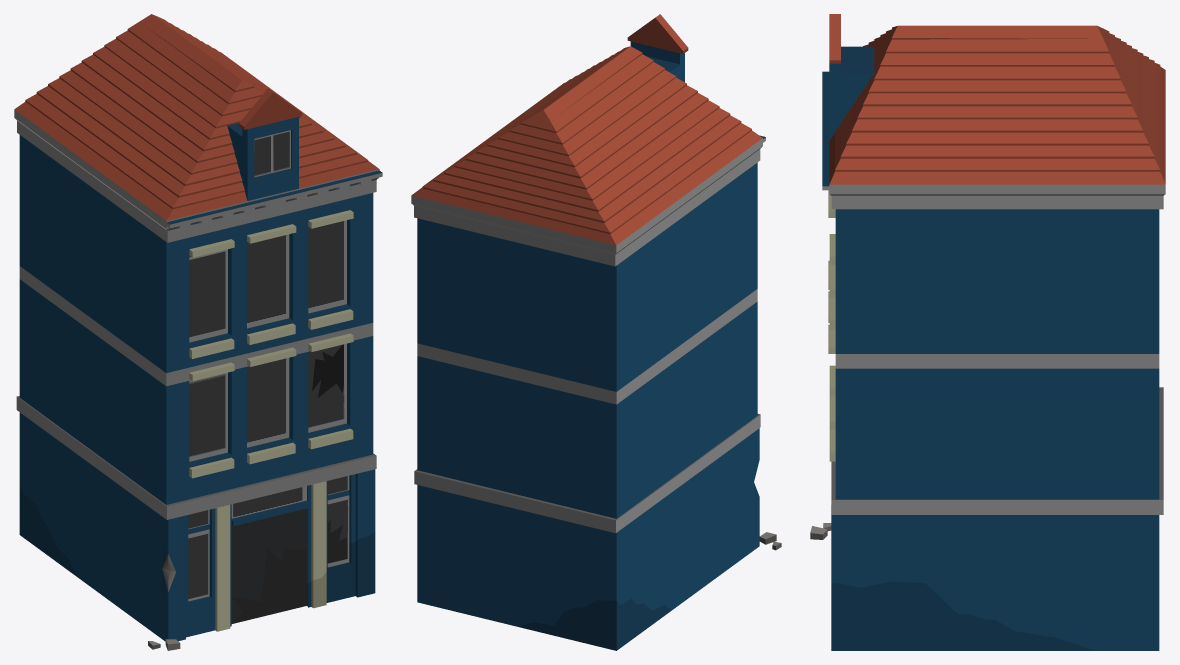
File: SA_Bld_OfficeOld_01.gltf
The picture shows the model from 3 angles, left to right: view 1: azimuth 30°, elevation 25°; view 2: azimuth 150°, elevation 25°; view 3: azimuth 270°, elevation 25°; orthographic projection. The views are drawn at different scales.
Visible parts, largest first — view 1: SA_Bld_OfficeOld_01; view 2: SA_Bld_OfficeOld_01; view 3: SA_Bld_OfficeOld_01.
Part boxes in pixels (bbox=[...]): SA_Bld_OfficeOld_01: bbox=[14, 14, 382, 650]; SA_Bld_OfficeOld_01: bbox=[411, 14, 781, 650]; SA_Bld_OfficeOld_01: bbox=[810, 14, 1165, 650].
Bounding box in the file's own units: 9.19 × 20.16 × 11.17.
Materials: 1 (1 with a texture image).
